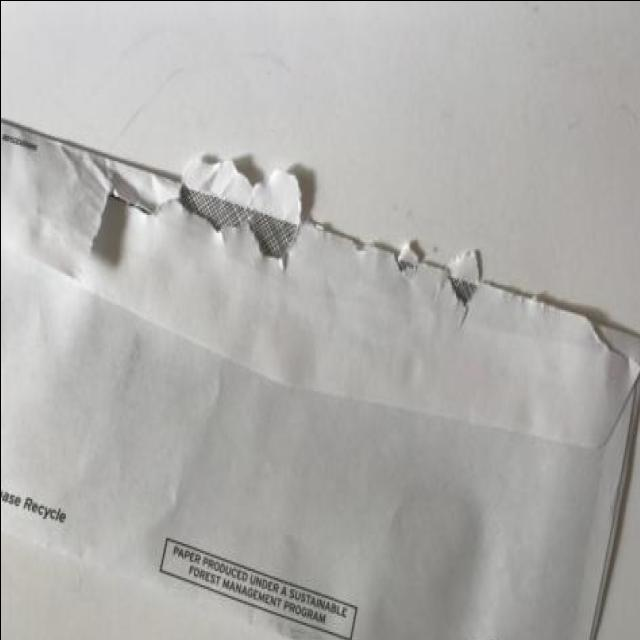kertas: (0, 118, 640, 640)
